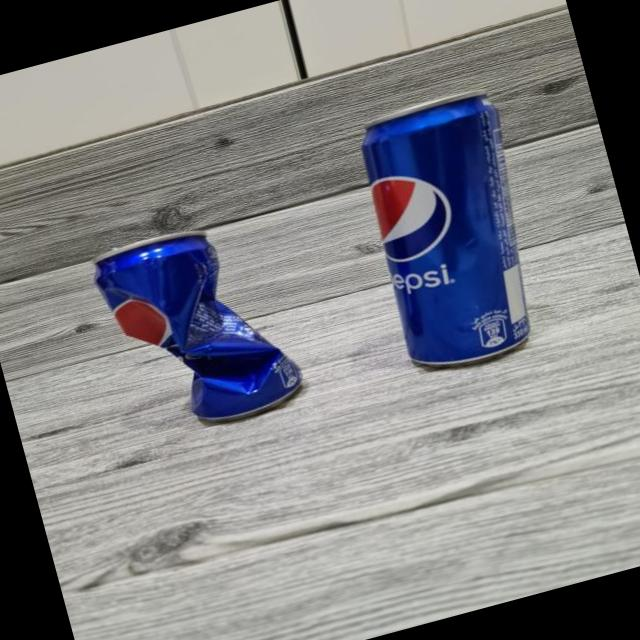Kaleng: (345, 85, 558, 379), (85, 208, 308, 446)
